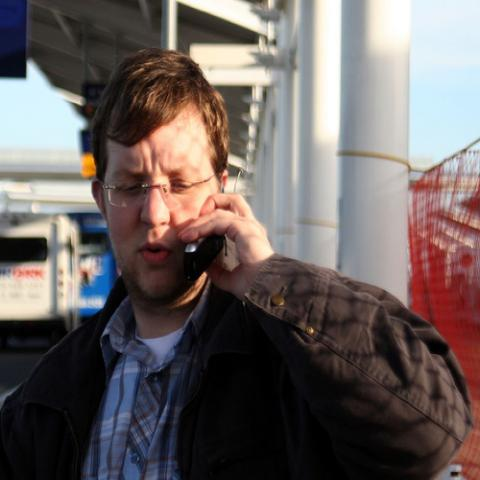bus: (0, 211, 84, 330), (70, 213, 121, 316)
truck: (0, 207, 85, 349)
